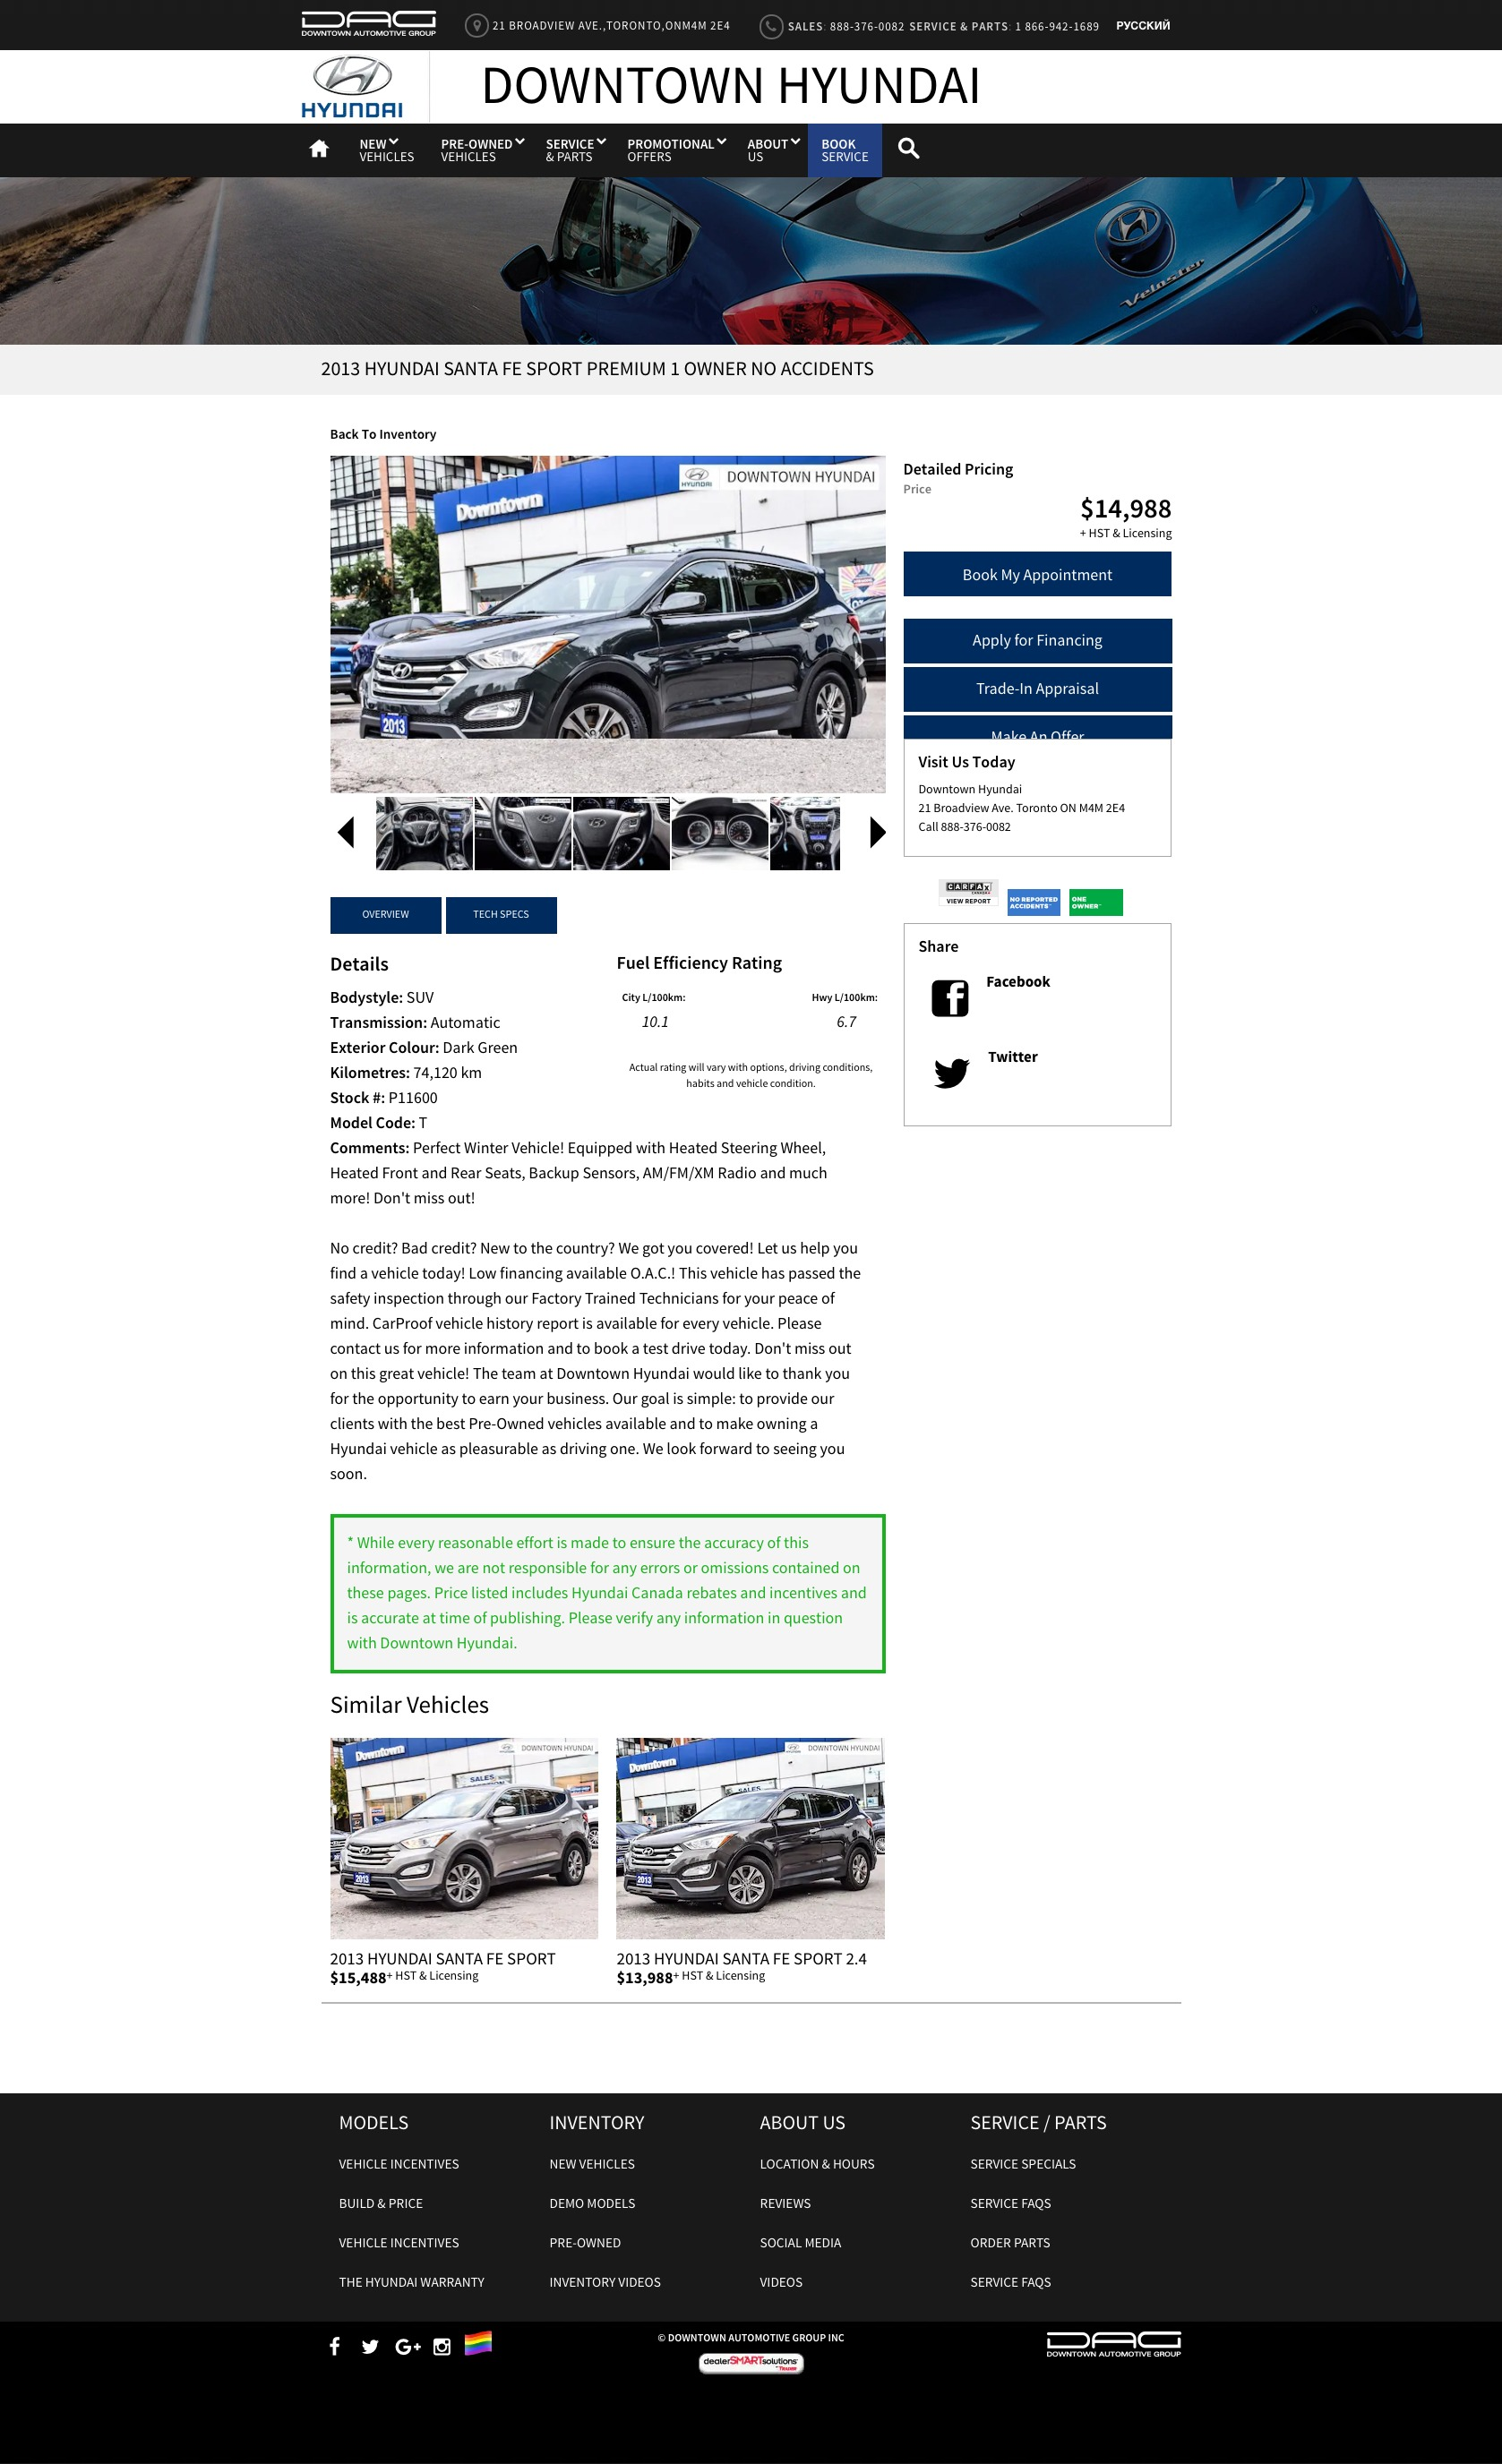car: (870, 817, 887, 850)
